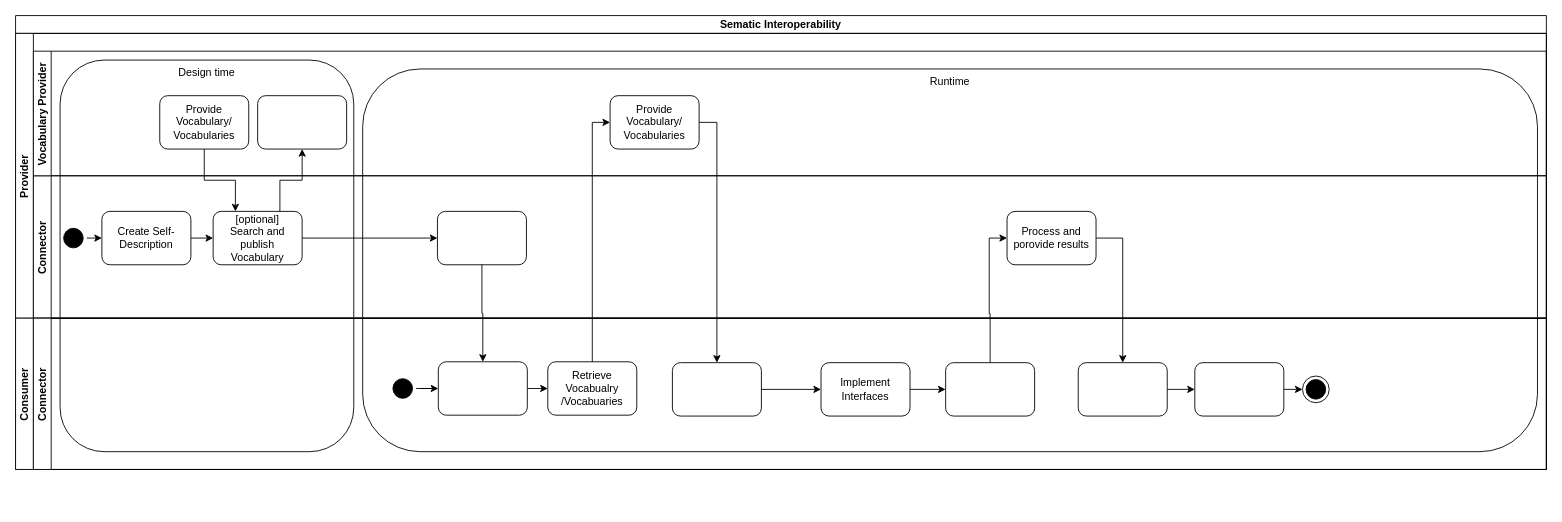
The diagram is 1562 pixels wide and 522 high, and some of its shapes have lost their labels. Each missing label, with the centre of its shape:
[Optional] Conduct data transformation: the point at 1239,389
Invoke Operation: the point at 990,389
Provide Self-Description: the point at 481,237
Receive Vocabulary: the point at 302,122
Retrieve Self-Description: the point at 482,388
Valiate Schema: the point at 716,389
Validate Data: the point at 1122,389
